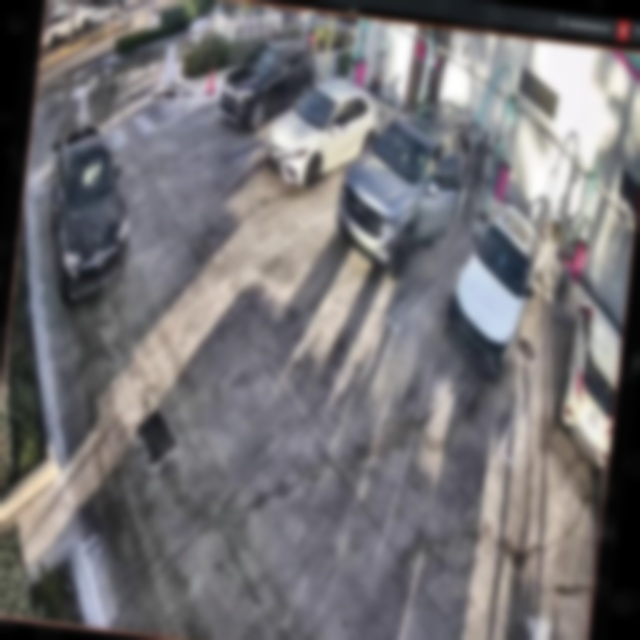Car: (333, 90, 476, 288), (445, 199, 547, 379), (262, 73, 384, 192)
